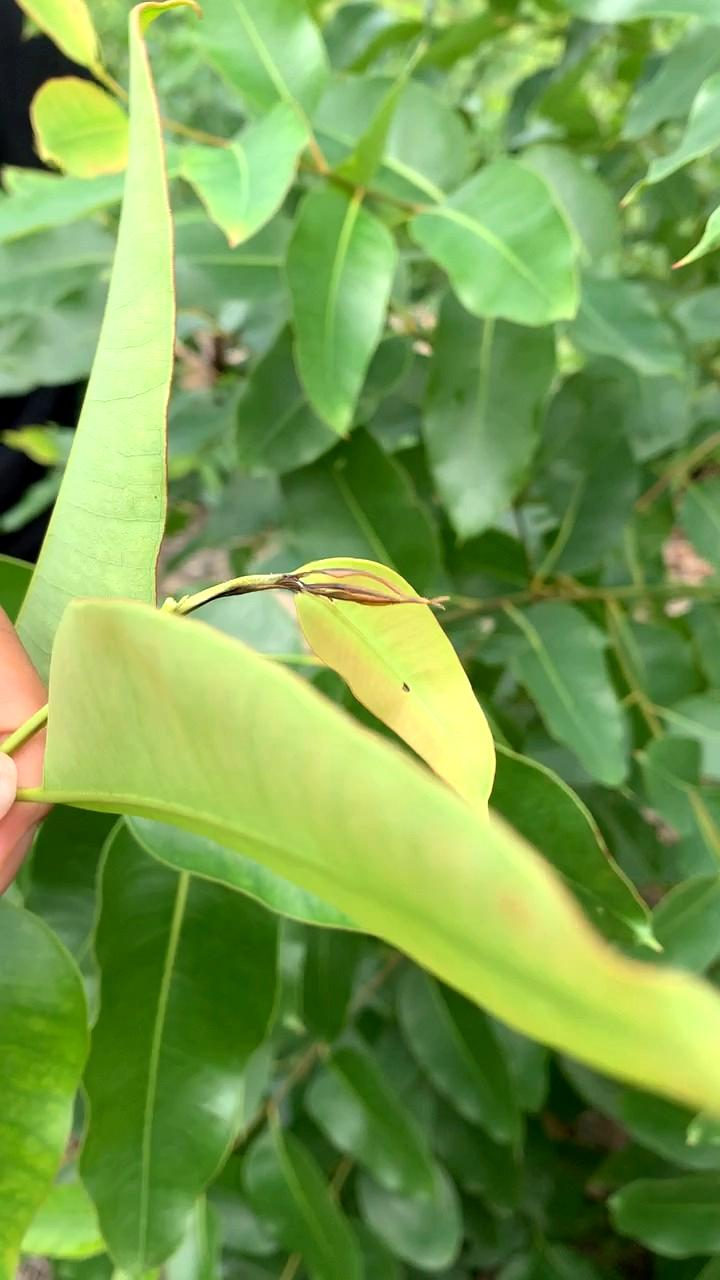Helopeltis-Withered Sprout: (288, 545, 439, 624)
